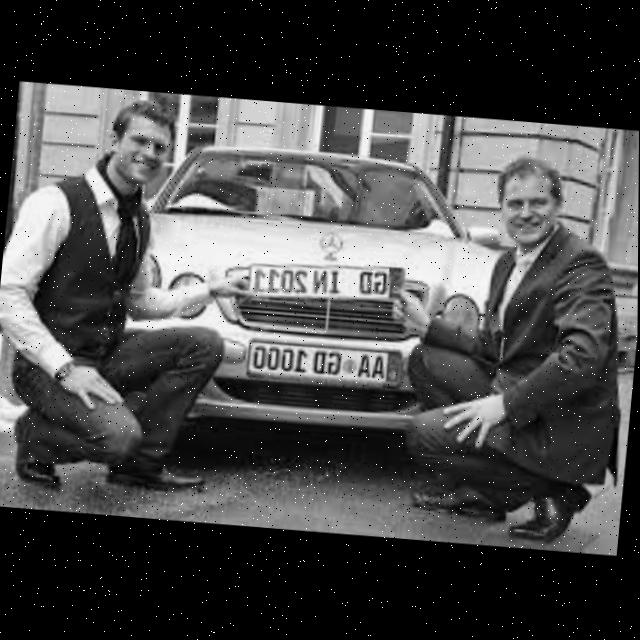license-plates: (246, 341, 399, 386)
